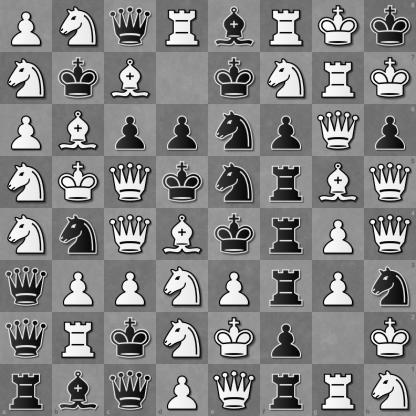B: (53, 105, 104, 156), (105, 53, 156, 104), (157, 209, 208, 260), (313, 157, 364, 208)
K: (364, 52, 416, 104), (364, 312, 416, 364), (53, 157, 104, 208), (209, 313, 260, 364), (313, 1, 364, 52)
N: (364, 364, 416, 416), (1, 53, 52, 104), (1, 157, 52, 208), (1, 209, 52, 260), (53, 1, 104, 52), (157, 261, 208, 312), (157, 313, 208, 364), (261, 53, 312, 104)
P: (156, 364, 209, 416), (1, 1, 52, 52), (1, 105, 52, 156), (53, 261, 104, 312), (105, 261, 156, 312), (209, 261, 260, 312), (313, 209, 364, 260), (313, 261, 364, 312)
Q: (364, 156, 416, 209), (209, 364, 260, 416), (364, 209, 416, 260), (105, 157, 156, 208), (105, 209, 156, 260), (313, 105, 364, 156)
R: (312, 364, 364, 416), (53, 313, 104, 364), (157, 1, 208, 52), (261, 1, 312, 52), (313, 53, 364, 104)
b: (52, 364, 104, 416), (209, 1, 260, 52)
board: (0, 0, 415, 415)
k: (364, 0, 416, 52), (53, 53, 104, 104), (105, 313, 156, 364), (157, 157, 208, 208), (209, 53, 260, 104), (209, 209, 260, 260)
n: (364, 260, 416, 312), (53, 209, 104, 260), (209, 105, 260, 156), (209, 157, 260, 208)
p: (364, 104, 416, 156), (105, 105, 156, 156), (157, 105, 208, 156), (261, 105, 312, 156), (261, 313, 312, 364)
q: (104, 364, 156, 416), (1, 261, 52, 312), (1, 313, 52, 364), (105, 1, 156, 52)
r: (0, 364, 52, 416), (260, 364, 312, 416), (261, 157, 312, 208), (261, 209, 312, 260), (261, 261, 312, 312)
